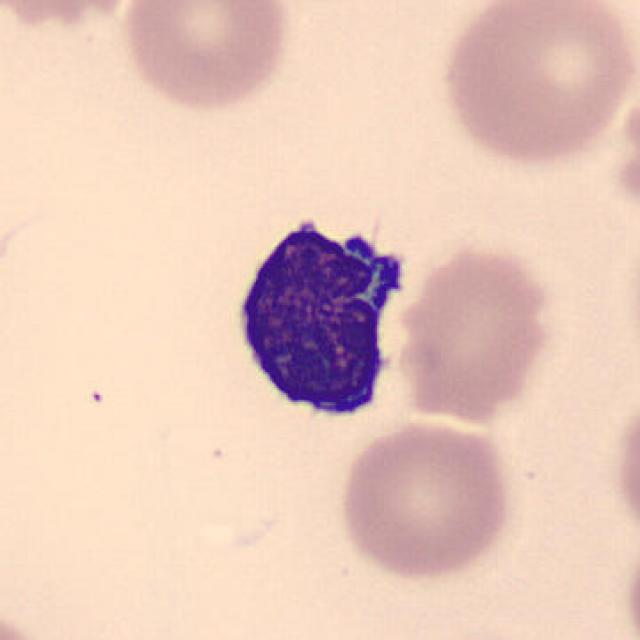Lymphocyte: (215, 202, 425, 434)
RBC: (433, 0, 634, 169), (391, 239, 557, 426), (332, 416, 518, 582), (115, 0, 295, 116), (610, 381, 640, 557), (0, 0, 144, 30)
